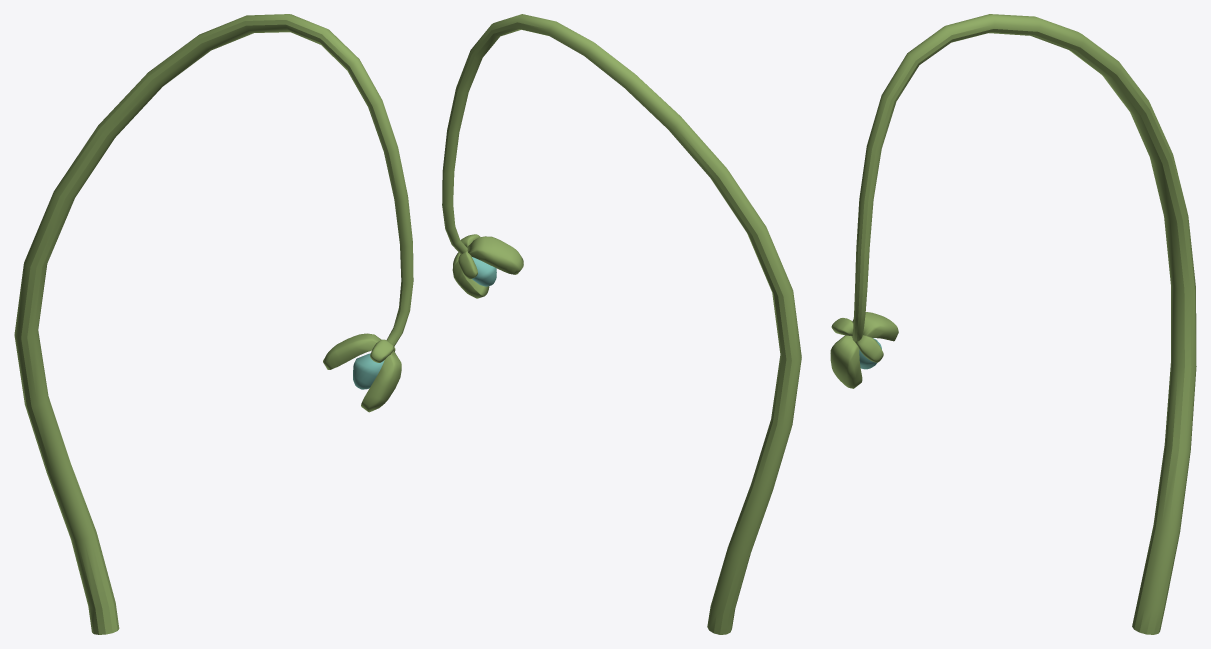
The model's file is Glowing Plant 3.fbx.
3 views of the same model, side by side, from view 1: azimuth 30°, elevation 25°; view 2: azimuth 210°, elevation 25°; view 3: azimuth 270°, elevation 25° (orthographic). The views are drawn at different scales.
Parts seen in each view (by area): view 1: polySurface18, pSphere2; view 2: polySurface18; view 3: polySurface18.
Boxes of the visible parts, <box> form: polySurface18: <box>14,14,413,634</box>; pSphere2: <box>353,353,384,389</box>; polySurface18: <box>442,14,801,634</box>; polySurface18: <box>830,14,1196,634</box>.
Bounding box in the file's own units: 1.36 × 3.48 × 1.72.
